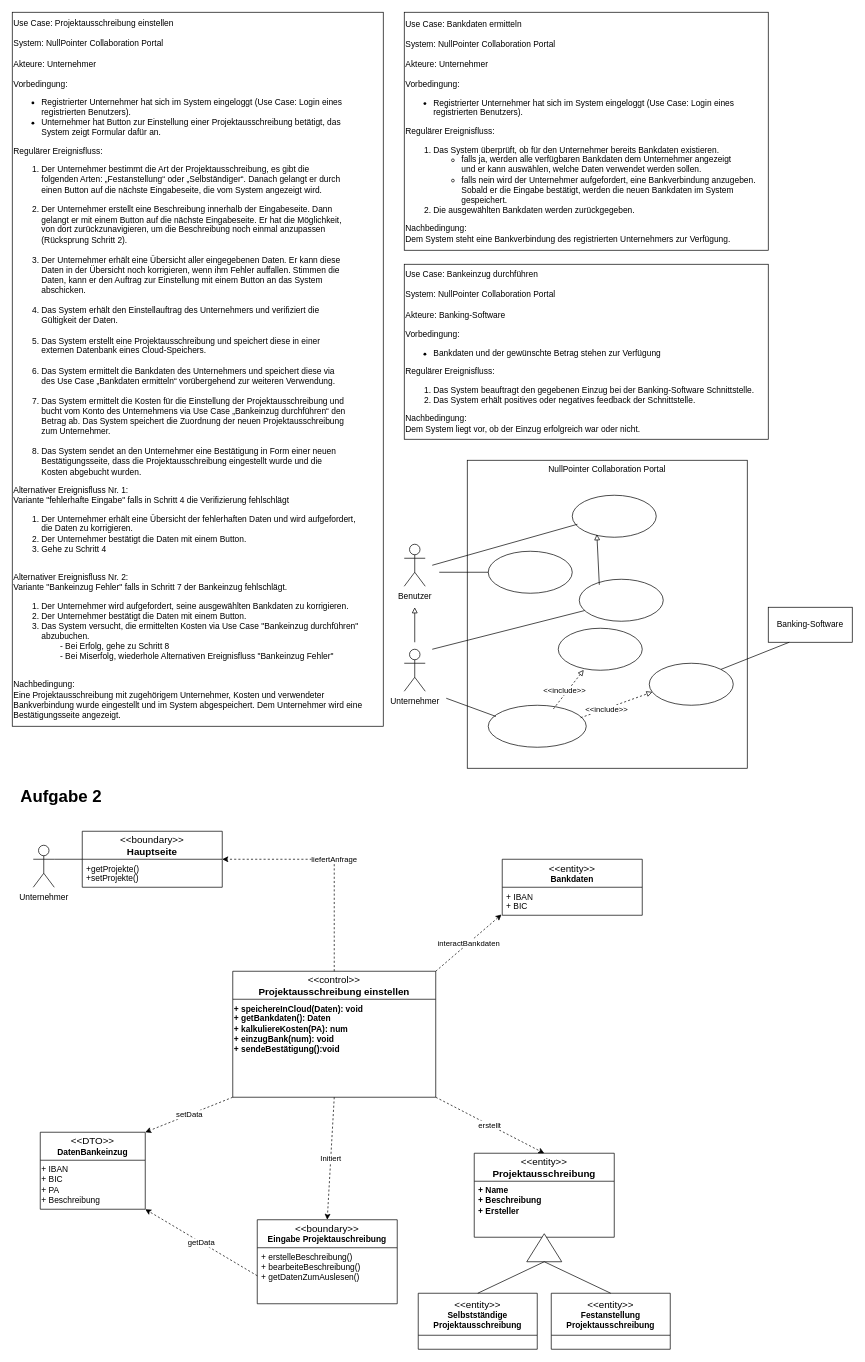
Some shapes in this 865 by 1362 pixel diagram are drawn without their labels. The centre of each missing label's shape, as x and y in pixels:
"Bankdaten ermitteln" belongs at (x=600, y=649).
"Bankeinzug durchführen" belongs at (x=691, y=684).
"Benutzer registrieren" belongs at (x=614, y=516).
"Login eines registrierten Benutzers" belongs at (x=530, y=572).
"Projektausschreibung einstellen" belongs at (x=537, y=726).
"Unternehmer registrieren" belongs at (x=621, y=600).
